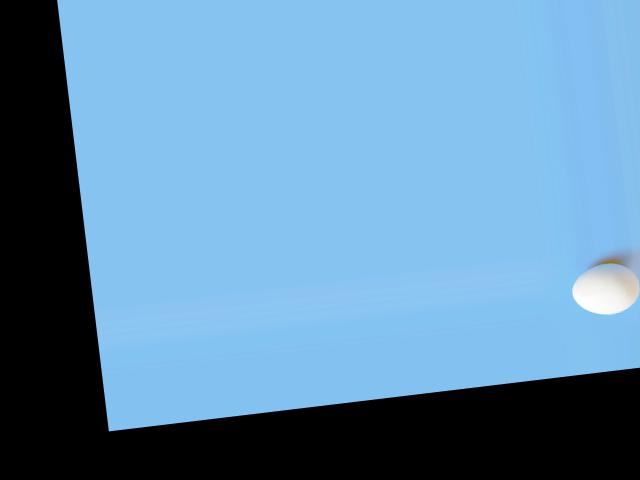egg: (569, 259, 640, 318)
